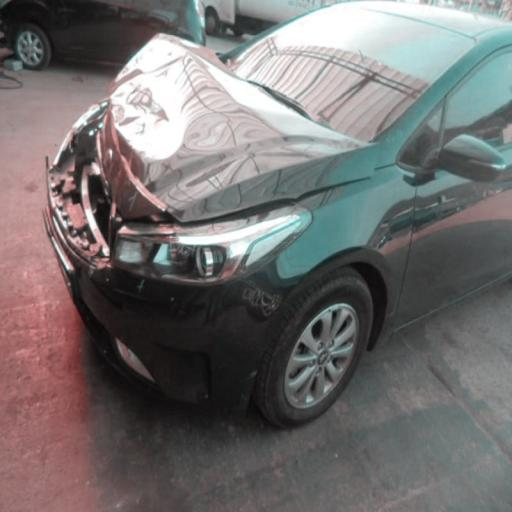broken: (38, 81, 139, 273)
dent: (127, 25, 262, 192)
